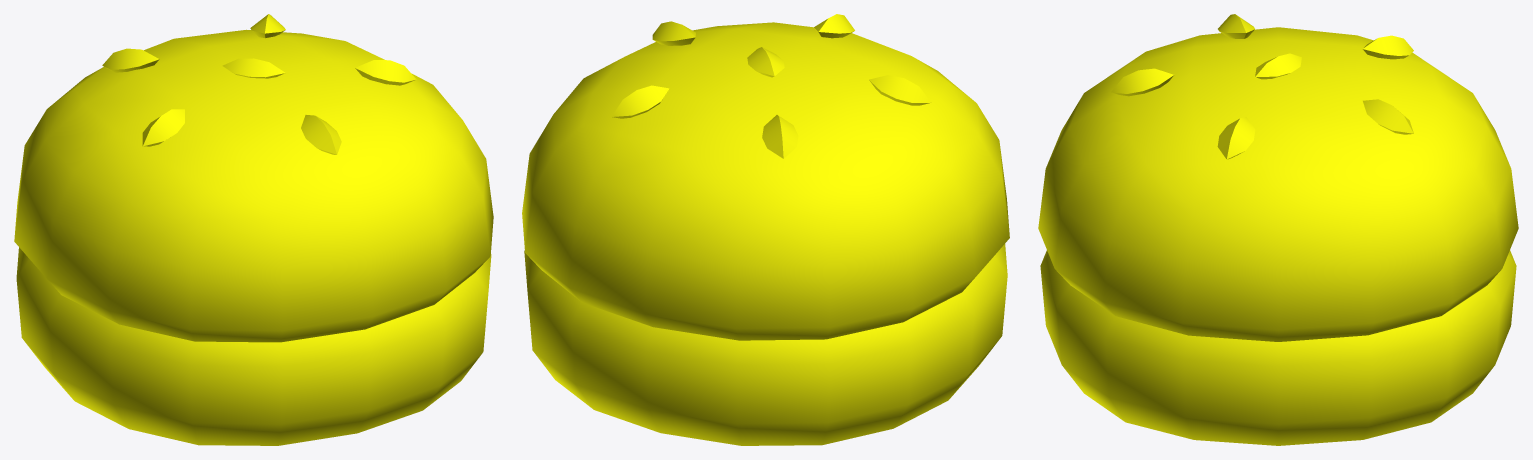
The model's file is food_ingredient_bun.gltf.
The picture shows the model from 3 angles, left to right: view 1: azimuth 30°, elevation 25°; view 2: azimuth 150°, elevation 25°; view 3: azimuth 270°, elevation 25°; orthographic projection.
Visible parts, largest first — view 1: food_ingredient_bun; view 2: food_ingredient_bun; view 3: food_ingredient_bun.
Part boxes in pixels (x1,y1,x2,y2): food_ingredient_bun: (14,14,493,445); food_ingredient_bun: (522,14,1009,445); food_ingredient_bun: (1038,14,1518,445).
Bounding box in the file's own units: 0.7 × 0.5072 × 0.7.
Materials: 1 (1 with a texture image).
